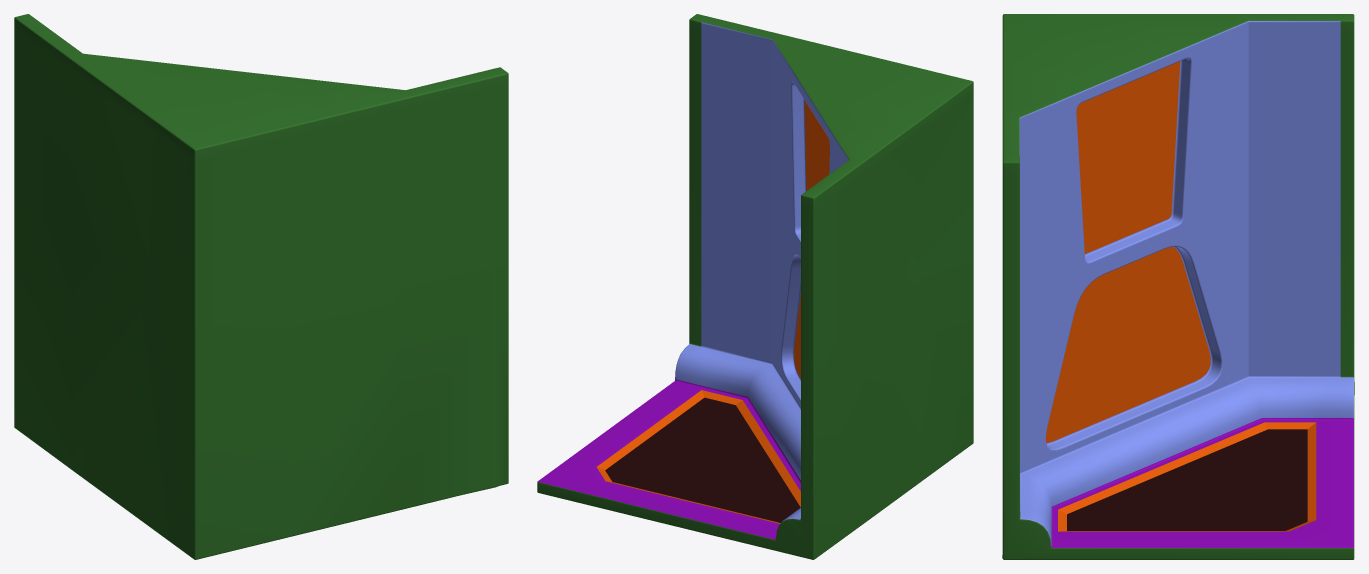
File: Section007.fbx
3 renders of one model, left to right at view 1: azimuth 30°, elevation 25°; view 2: azimuth 150°, elevation 25°; view 3: azimuth 270°, elevation 25°, orthographic. The views are drawn at different scales.
Parts seen in each view (by area): view 1: Box001; view 2: Box001; view 3: Box001.
Part boxes in pixels (bbox=[...]): Box001: bbox=[14, 14, 508, 559]; Box001: bbox=[537, 14, 973, 559]; Box001: bbox=[1002, 14, 1354, 559].
Size of the model in its own units: 200 by 250 by 200.
